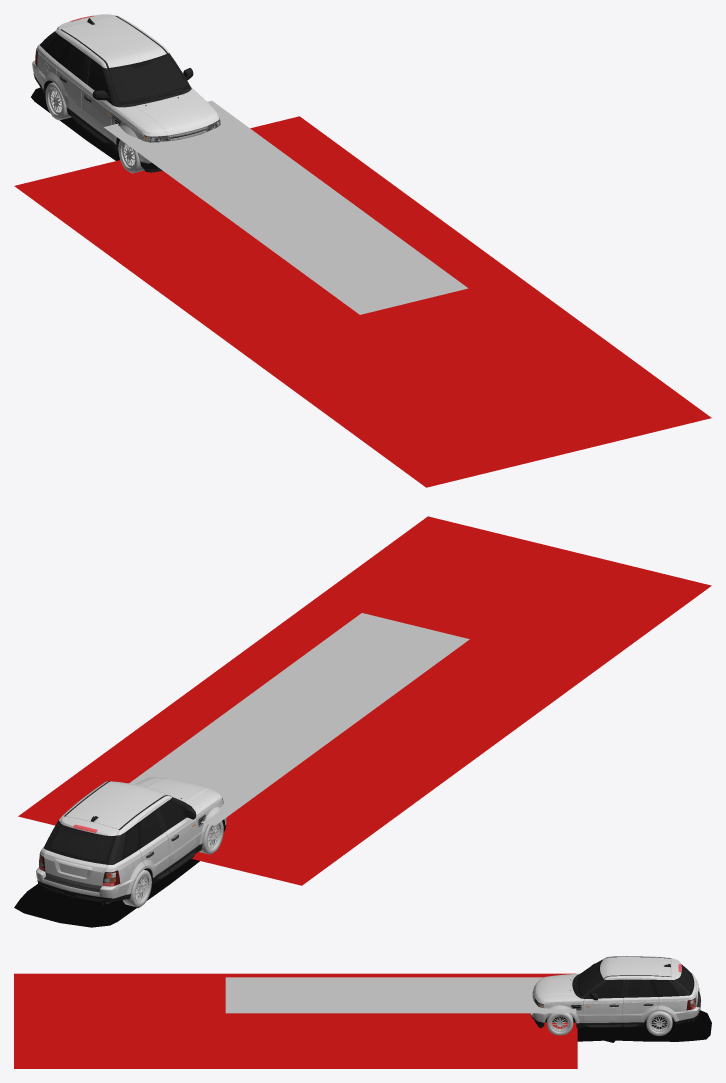
File: car18.fbx
The picture shows the model from 3 angles, top to bottom: view 1: azimuth 30°, elevation 25°; view 2: azimuth 150°, elevation 25°; view 3: azimuth 270°, elevation 25°; orthographic projection. The views are drawn at different scales.
Parts seen in each view (by area): view 1: light_ground, far_lights, lrrr, shadow_car; view 2: light_ground, far_lights, lrrr, shadow_car; view 3: light_ground, far_lights, lrrr, shadow_car, wheel_RL, wheel_FL, decalSide.
Part boxes in pixels (box(x1,y1,x2,y2)): light_ground: box(14, 116, 711, 487); far_lights: box(104, 100, 468, 314); lrrr: box(32, 14, 220, 172); shadow_car: box(31, 87, 120, 160); light_ground: box(18, 516, 711, 885); far_lights: box(129, 613, 469, 825); lrrr: box(36, 777, 226, 904); shadow_car: box(14, 859, 199, 927); light_ground: box(14, 973, 577, 1068); far_lights: box(225, 977, 576, 1013); lrrr: box(530, 956, 701, 1028); shadow_car: box(577, 1010, 711, 1042); wheel_RL: box(646, 1011, 672, 1035); wheel_FL: box(547, 1013, 573, 1035); decalSide: box(585, 1007, 616, 1022).
Bounding box in the file's own units: 44.5 × 12.66 × 138.
